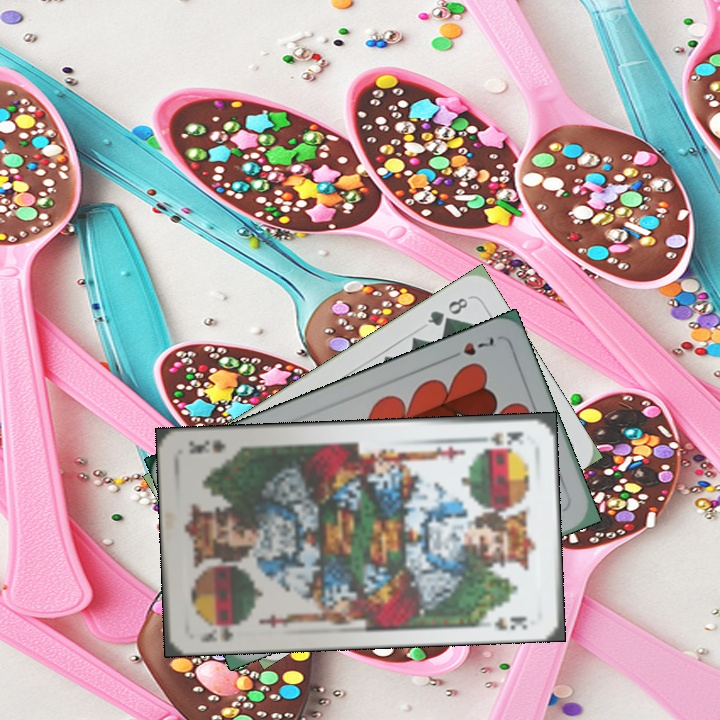G8: (423, 293, 471, 329)
H7: (443, 333, 497, 363)
SK: (196, 618, 244, 645), (471, 427, 525, 448)
